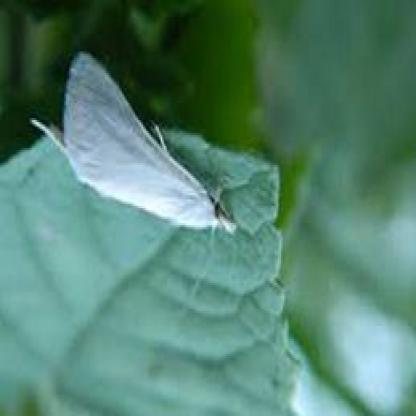stem-borer: (27, 50, 240, 240)
